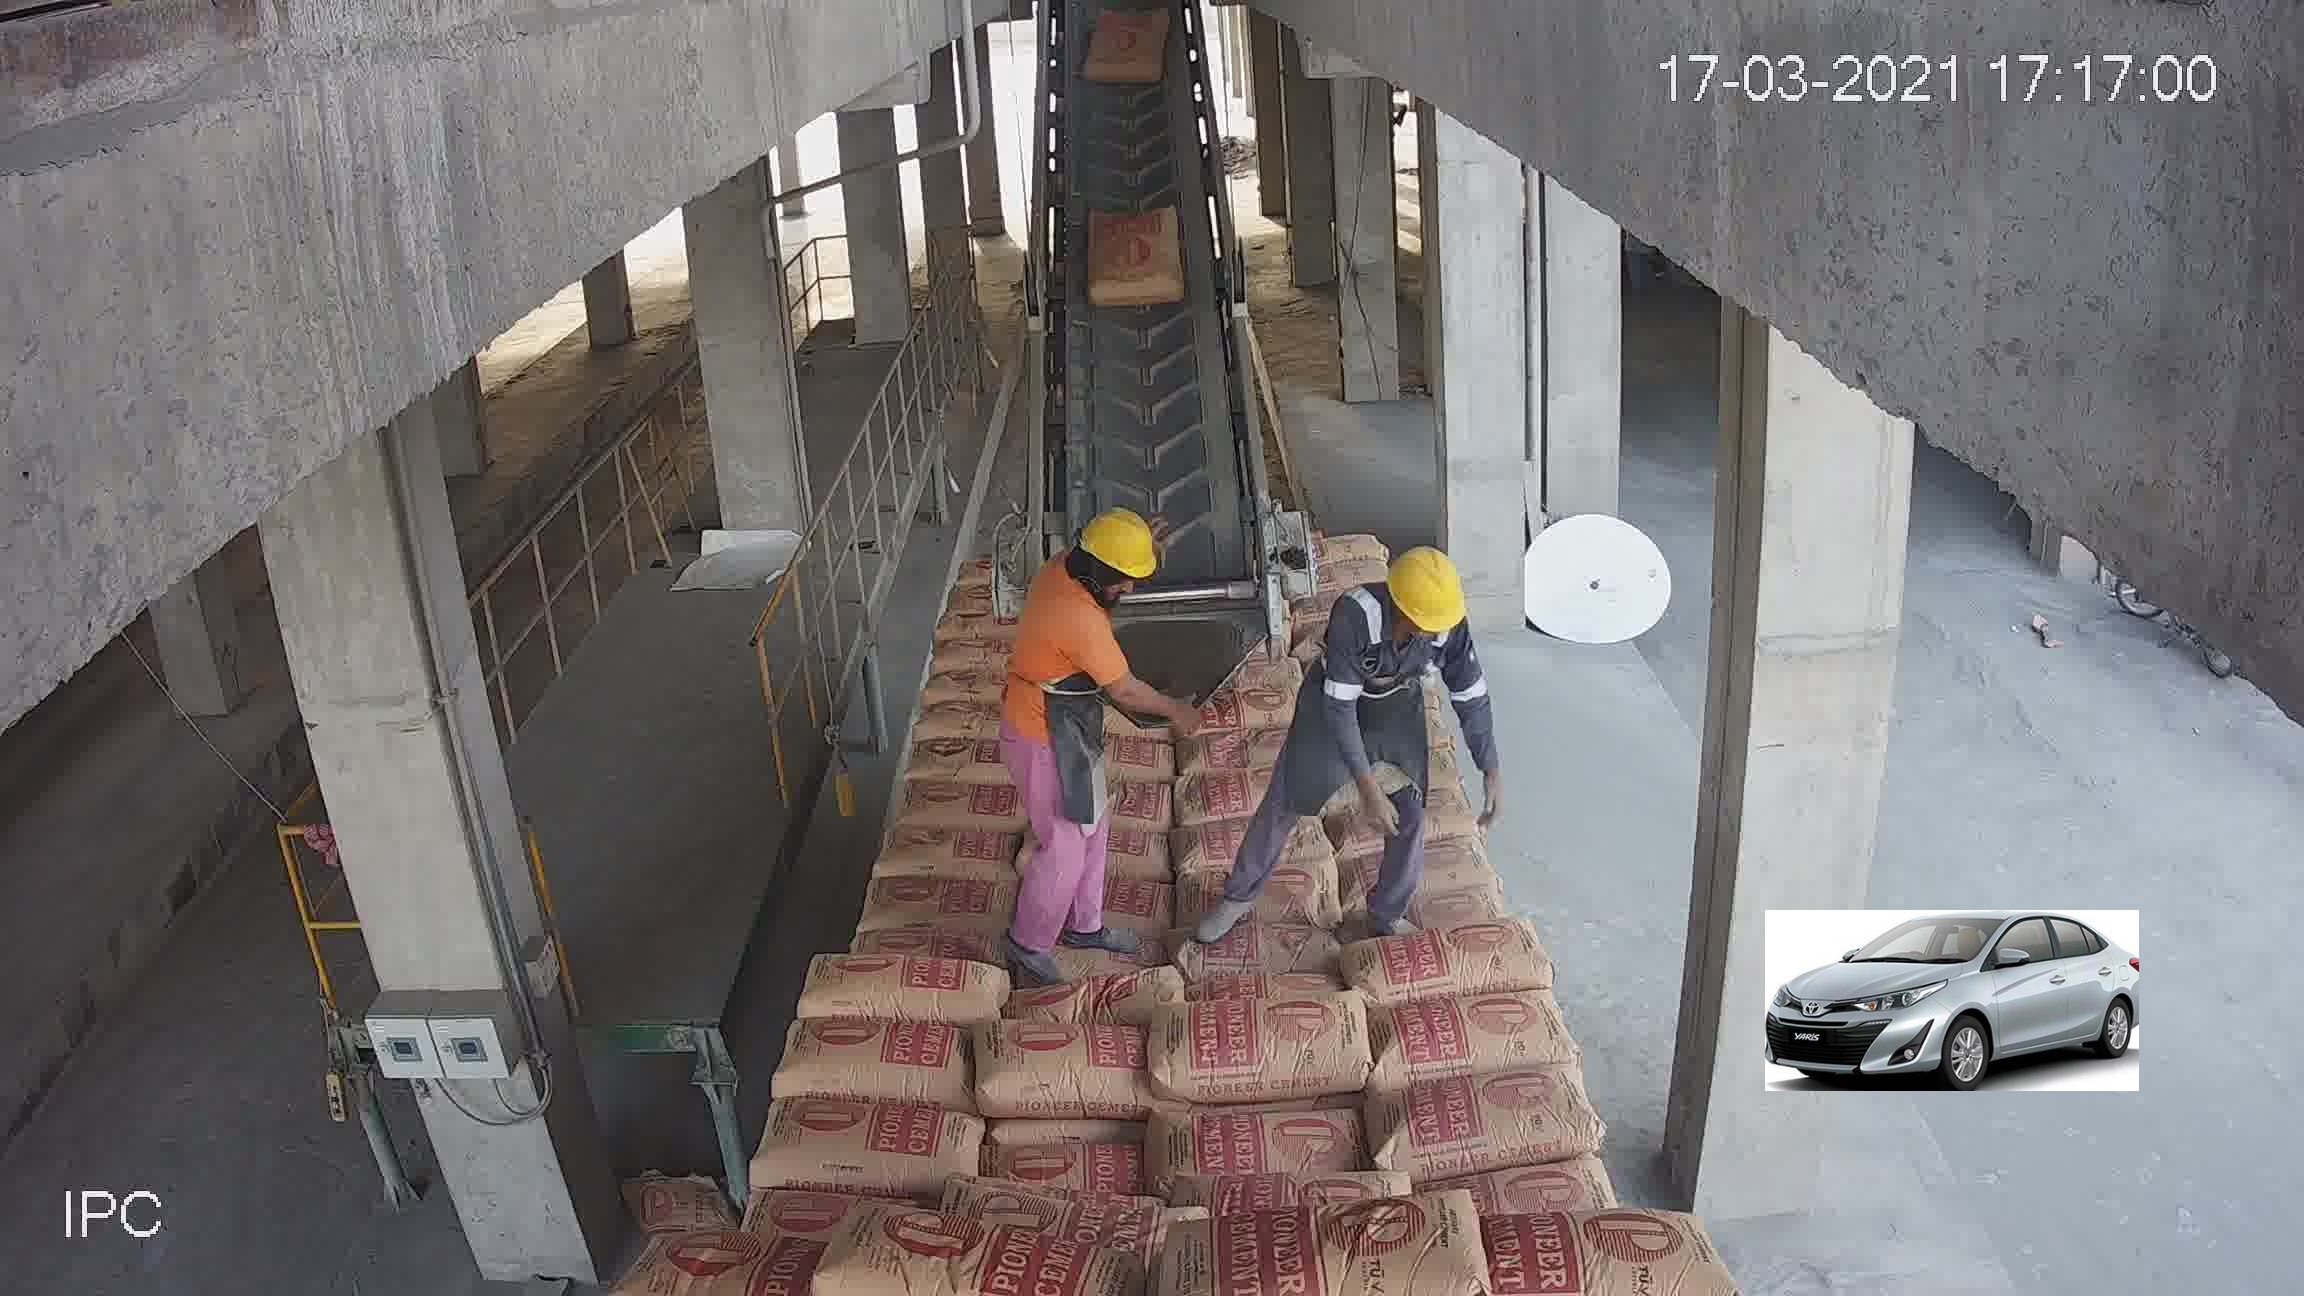bag: (1086, 207, 1177, 305), (1087, 17, 1169, 101)
bag_h: (1198, 1195, 1492, 1296), (1446, 1203, 1714, 1296), (815, 1215, 1119, 1294), (1380, 1078, 1590, 1192), (748, 1101, 994, 1198), (1165, 992, 1378, 1101), (976, 1014, 1152, 1130), (1155, 1108, 1370, 1198), (767, 1021, 983, 1108), (1364, 986, 1571, 1074), (1348, 919, 1556, 1002), (810, 951, 1013, 1025), (636, 1230, 845, 1296), (1179, 855, 1323, 938), (1165, 908, 1340, 975), (1025, 964, 1199, 1029), (864, 812, 1019, 885), (853, 866, 1017, 930), (991, 1141, 1157, 1198), (1340, 837, 1492, 892), (892, 764, 1021, 823), (1179, 680, 1283, 747), (904, 720, 1013, 779), (1168, 767, 1272, 826), (1179, 729, 1282, 779), (1313, 525, 1394, 571)
belt: (1021, 9, 1271, 644)
